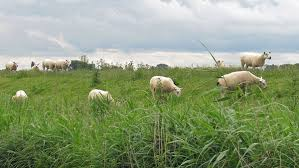sheep: (216, 70, 269, 97), (86, 87, 120, 112), (237, 50, 275, 71), (151, 75, 181, 99), (9, 90, 34, 110), (54, 57, 75, 75), (42, 58, 57, 72), (4, 58, 18, 73)
